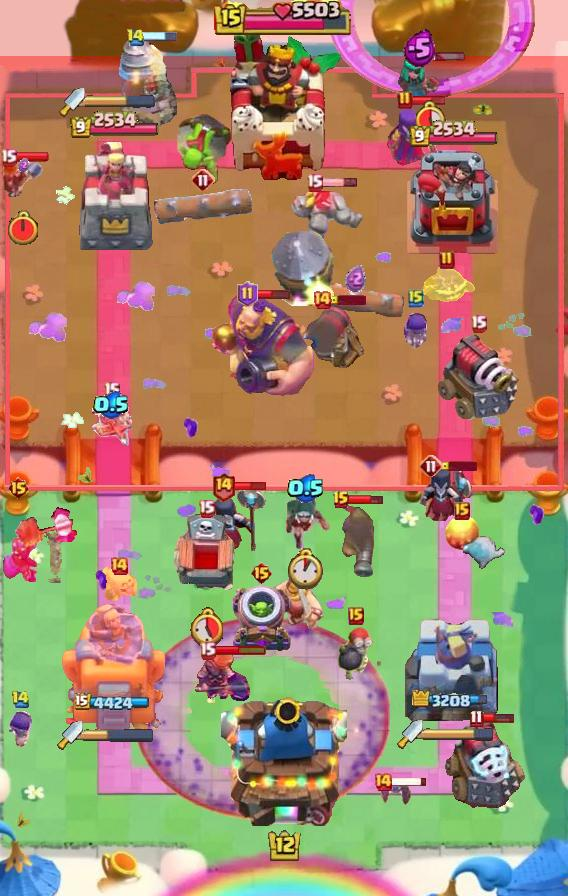bandit: (282, 495, 330, 551)
bar: (214, 644, 267, 656), (414, 51, 466, 62), (348, 493, 384, 506), (14, 151, 50, 163), (142, 31, 178, 43), (233, 480, 268, 492), (256, 288, 291, 300), (391, 776, 428, 787), (321, 177, 358, 188), (481, 712, 514, 724), (411, 95, 446, 106), (441, 461, 477, 471), (330, 295, 366, 305)
bar-level: (211, 471, 236, 502), (419, 454, 443, 478), (191, 168, 215, 192), (250, 561, 273, 585), (7, 476, 30, 500), (237, 281, 258, 307), (373, 772, 393, 792), (109, 556, 129, 576), (312, 290, 332, 310), (11, 690, 30, 709), (126, 28, 145, 47), (332, 490, 350, 510), (199, 641, 216, 660), (198, 499, 215, 518), (103, 381, 120, 400), (470, 314, 487, 333), (306, 173, 323, 192), (0, 148, 17, 167), (408, 288, 424, 308), (439, 250, 455, 270), (397, 90, 413, 110), (348, 607, 364, 625), (454, 502, 470, 520), (469, 709, 484, 728)
bat: (378, 778, 414, 808)
bomber: (337, 625, 375, 681)
clock: (286, 548, 326, 590), (190, 607, 223, 646), (6, 210, 40, 247), (416, 100, 447, 136)
dagger-duchess-tower: (59, 595, 169, 731), (405, 611, 501, 731), (73, 140, 155, 256)
dagger-duchess-tower-bar: (83, 728, 155, 742), (423, 727, 495, 741), (85, 95, 155, 109)
dirt: (43, 531, 69, 583)
electro-spirit: (419, 264, 475, 304)
elite-barbarian: (260, 572, 326, 634)
elixir: (403, 29, 436, 68), (287, 474, 325, 503), (93, 391, 130, 419), (345, 265, 366, 292), (18, 158, 29, 172)
goblin-ball: (174, 109, 234, 185)
golemite: (289, 186, 365, 248)
heal-spirit: (99, 567, 139, 601)
ice-spirit: (463, 536, 507, 574)
king-tower: (224, 23, 344, 181), (221, 690, 347, 826)
king-tower-bar: (214, 0, 355, 38)
mortar-evolution: (229, 584, 293, 654)
musketeer: (338, 501, 376, 579)
night-witch: (418, 463, 474, 539), (207, 486, 267, 556)
phoenix-egg: (445, 513, 479, 551)
princess: (89, 392, 133, 452)
queen-tower: (403, 146, 503, 256)
rascal-girl: (396, 57, 442, 107)
skeleton-evolution: (401, 312, 431, 350), (7, 709, 33, 747)
the-log: (304, 280, 406, 328), (154, 189, 252, 225)
tower-bar: (408, 120, 499, 149), (69, 111, 160, 140), (412, 690, 494, 712), (75, 693, 153, 713)
valkyrie: (1, 154, 45, 204)
valkyrie-evolution: (0, 505, 78, 585), (192, 646, 252, 704)
witch: (384, 105, 448, 175)
